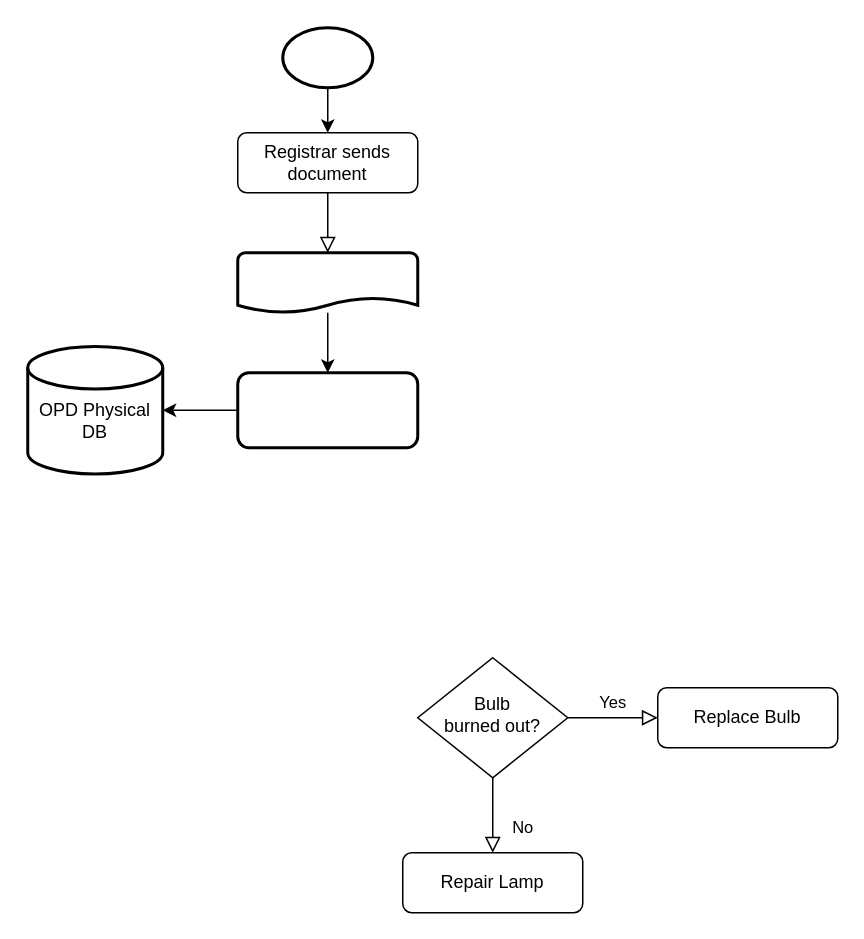
This 864x939 diagram has some shape labels left out. Here are the shapes that lost their labels. From the top down, the centre of each, then its label:
the point at 327,57: Start
the point at 327,282: Official Class List
the point at 327,409: OPD receives document
